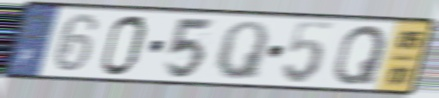0: (98, 13, 150, 78)
5: (280, 18, 340, 87), (159, 16, 218, 80)
6: (52, 12, 101, 75)
Q: (331, 23, 390, 87), (212, 19, 271, 82)
